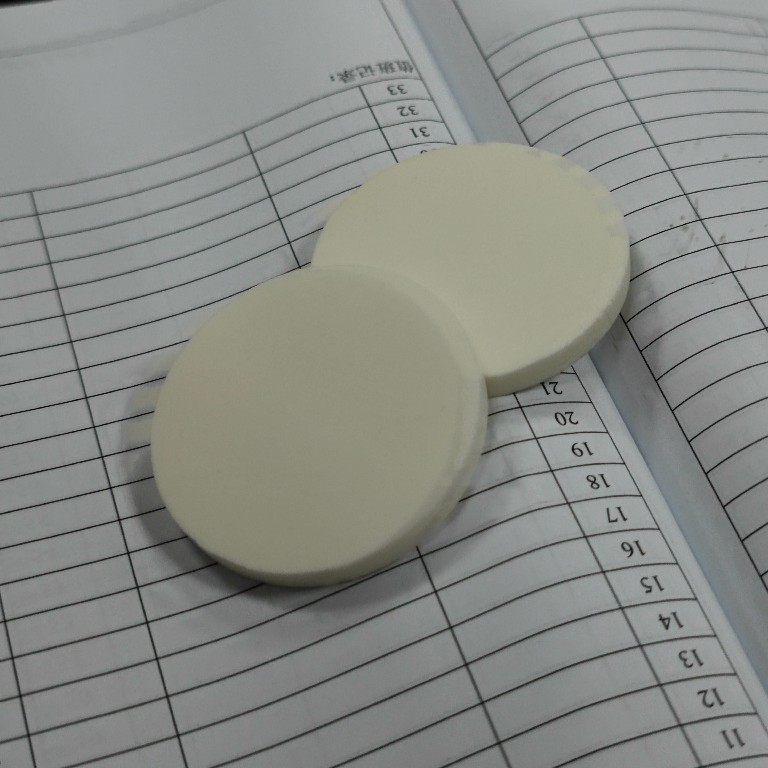ceramics: (142, 259, 490, 595), (306, 132, 642, 393)
